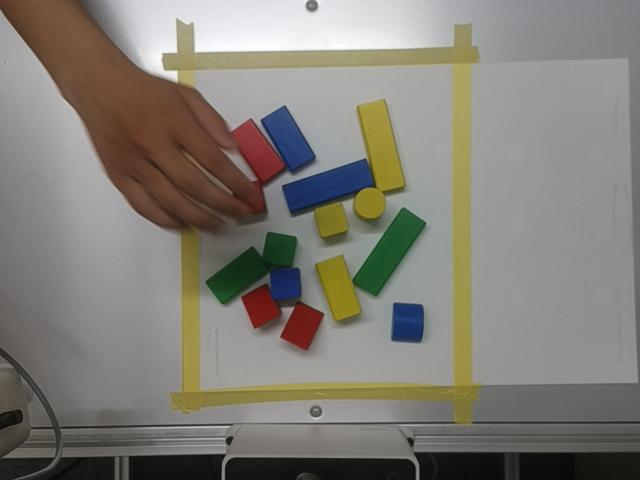Hand: (1, 0, 264, 232)
blue_cube: (271, 268, 301, 300)
blue_longrect: (283, 159, 374, 214)
blue_rect: (261, 106, 316, 171)
cylinder: (354, 188, 386, 220)
green_cube: (263, 232, 297, 266)
green_longrect: (354, 208, 426, 295)
green_rect: (207, 247, 269, 304)
half_cylinder: (392, 303, 424, 342)
red_rect: (233, 119, 286, 186)
triangle: (281, 302, 323, 350), (242, 284, 281, 328)
yellow_cube: (315, 202, 349, 238)
yellow_longrect: (358, 100, 405, 191)
yelow_rect: (317, 256, 361, 321)
